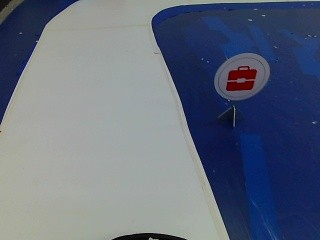company: (219, 54, 263, 99)
